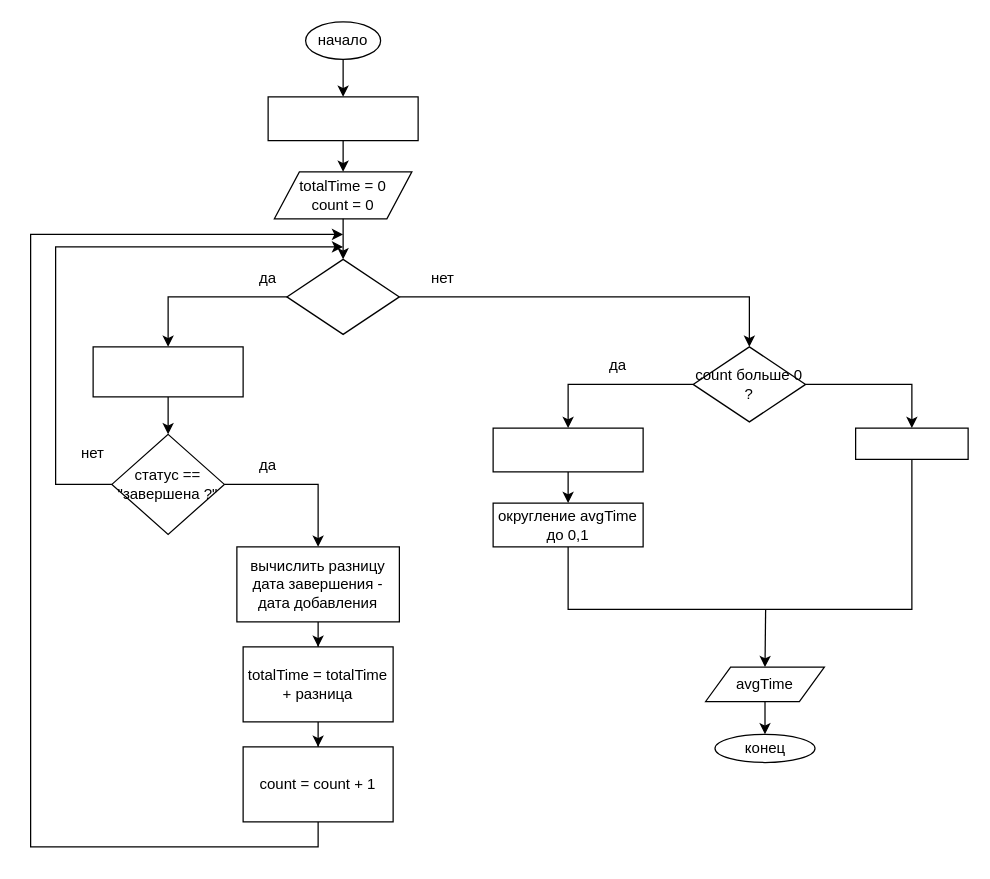
The diagram is 990 pixels wide and 879 high, and some of its shapes have lost their labels. Here are the shapes that lost their labels. From the top down, the box of each, then its label:
(267, 96, 418, 141): получить список всех заявок из БД
(286, 258, 399, 334): есть следующая заявка ?
(92, 346, 243, 397): взять следующую заявку
(492, 427, 643, 472): avgTime = totalTime / count
(854, 427, 968, 459): avgTime = 0
